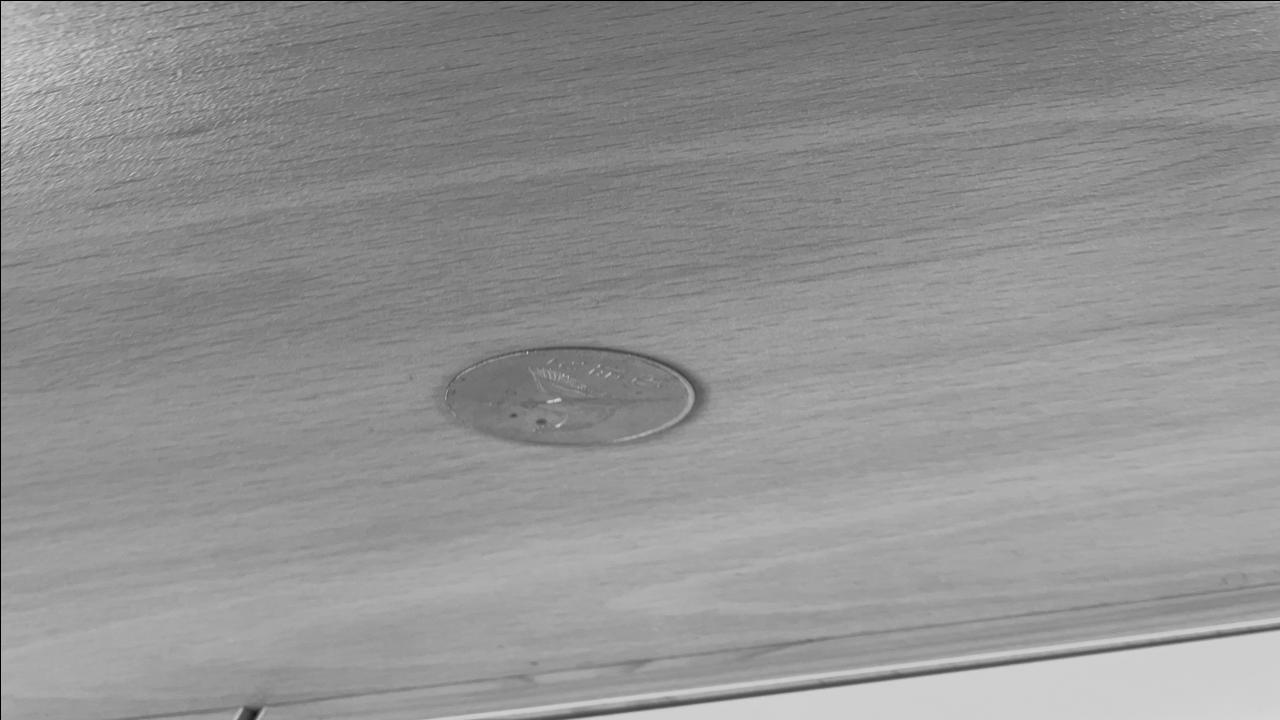coin: (440, 347, 699, 447)
